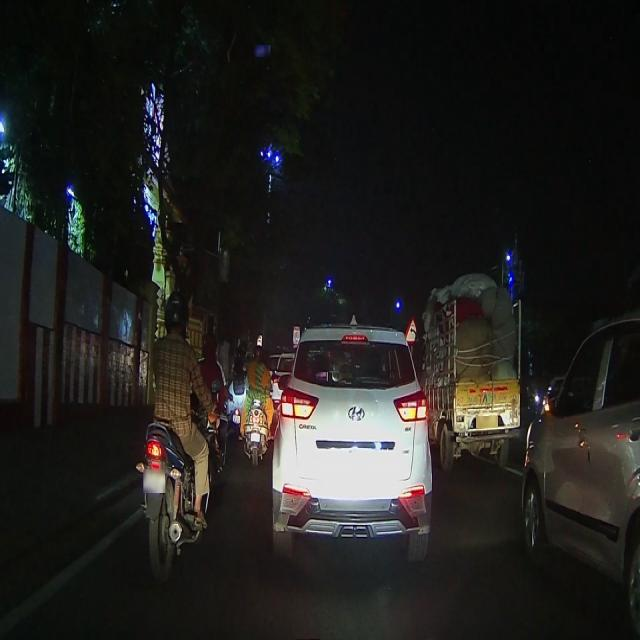left-hand-curve: (405, 313, 420, 349)
